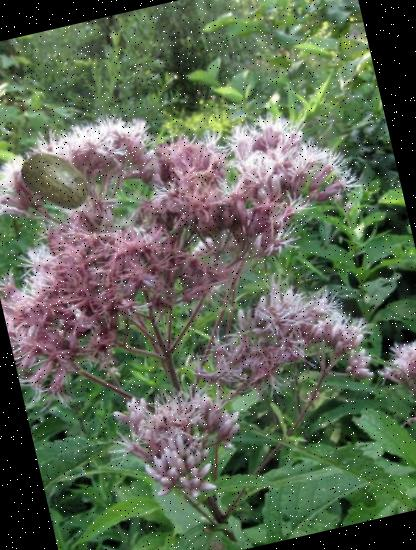Melon: (12, 136, 100, 224)
